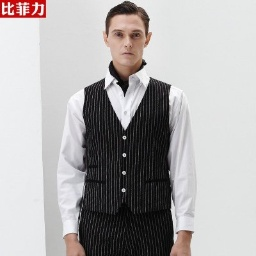face: (100, 1, 154, 66)
